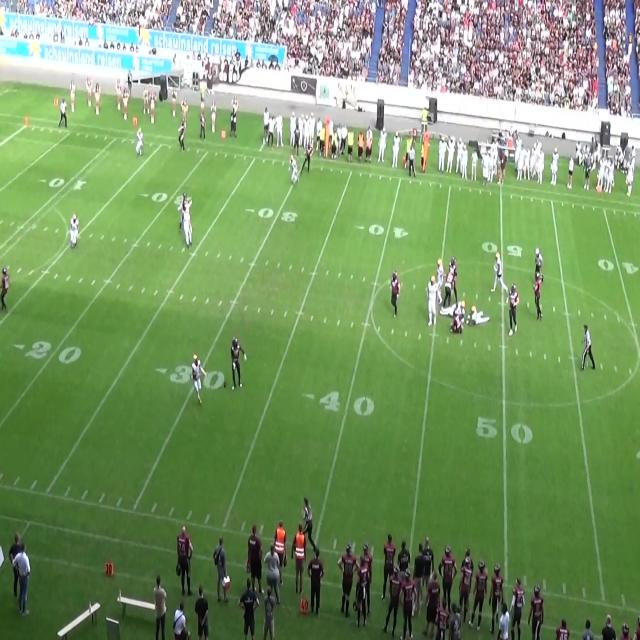2: (26, 337, 52, 362)
3: (169, 363, 194, 387)
4: (318, 382, 343, 415)
5: (475, 413, 500, 442)
american-football-players: (187, 352, 211, 409), (228, 336, 247, 390), (390, 270, 403, 324), (508, 282, 520, 340), (428, 277, 441, 325), (184, 200, 195, 250), (534, 270, 543, 324), (449, 253, 459, 301), (465, 306, 491, 324), (300, 141, 314, 174), (444, 266, 455, 307), (449, 310, 464, 337), (495, 250, 506, 286), (68, 212, 78, 251), (0, 268, 8, 316), (177, 192, 187, 229), (435, 259, 443, 302), (290, 155, 300, 188), (135, 124, 145, 156), (440, 300, 464, 313), (536, 248, 544, 282)
